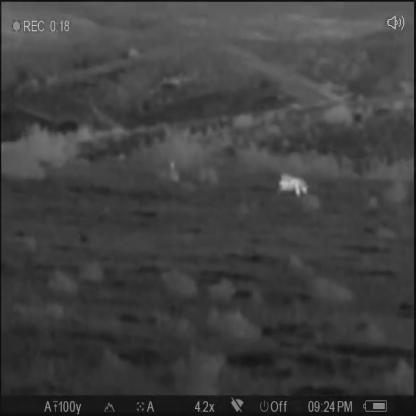rehkitze: (278, 170, 310, 198)
